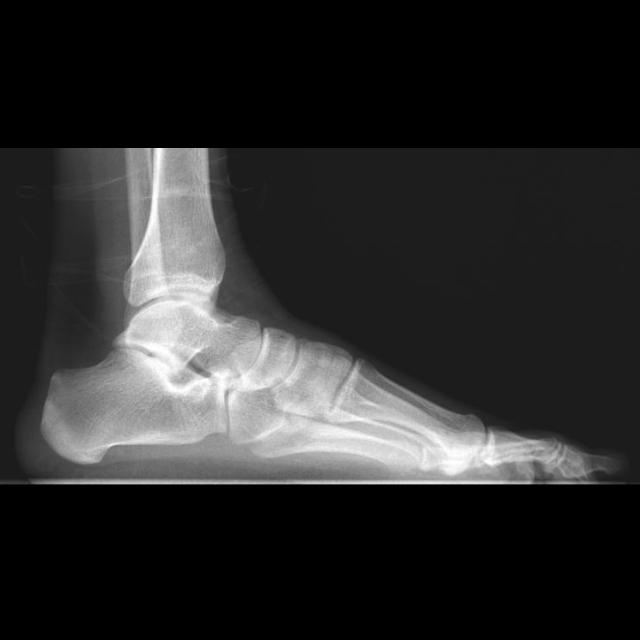a: (41, 345, 228, 464)
b: (239, 325, 296, 390)
c: (327, 354, 487, 458)
